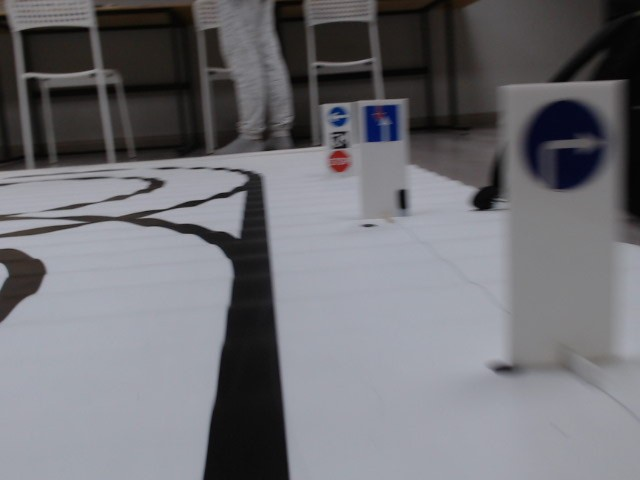Right: (522, 96, 607, 193)
Stop: (326, 149, 351, 172)
priority_movement: (362, 103, 403, 144)
